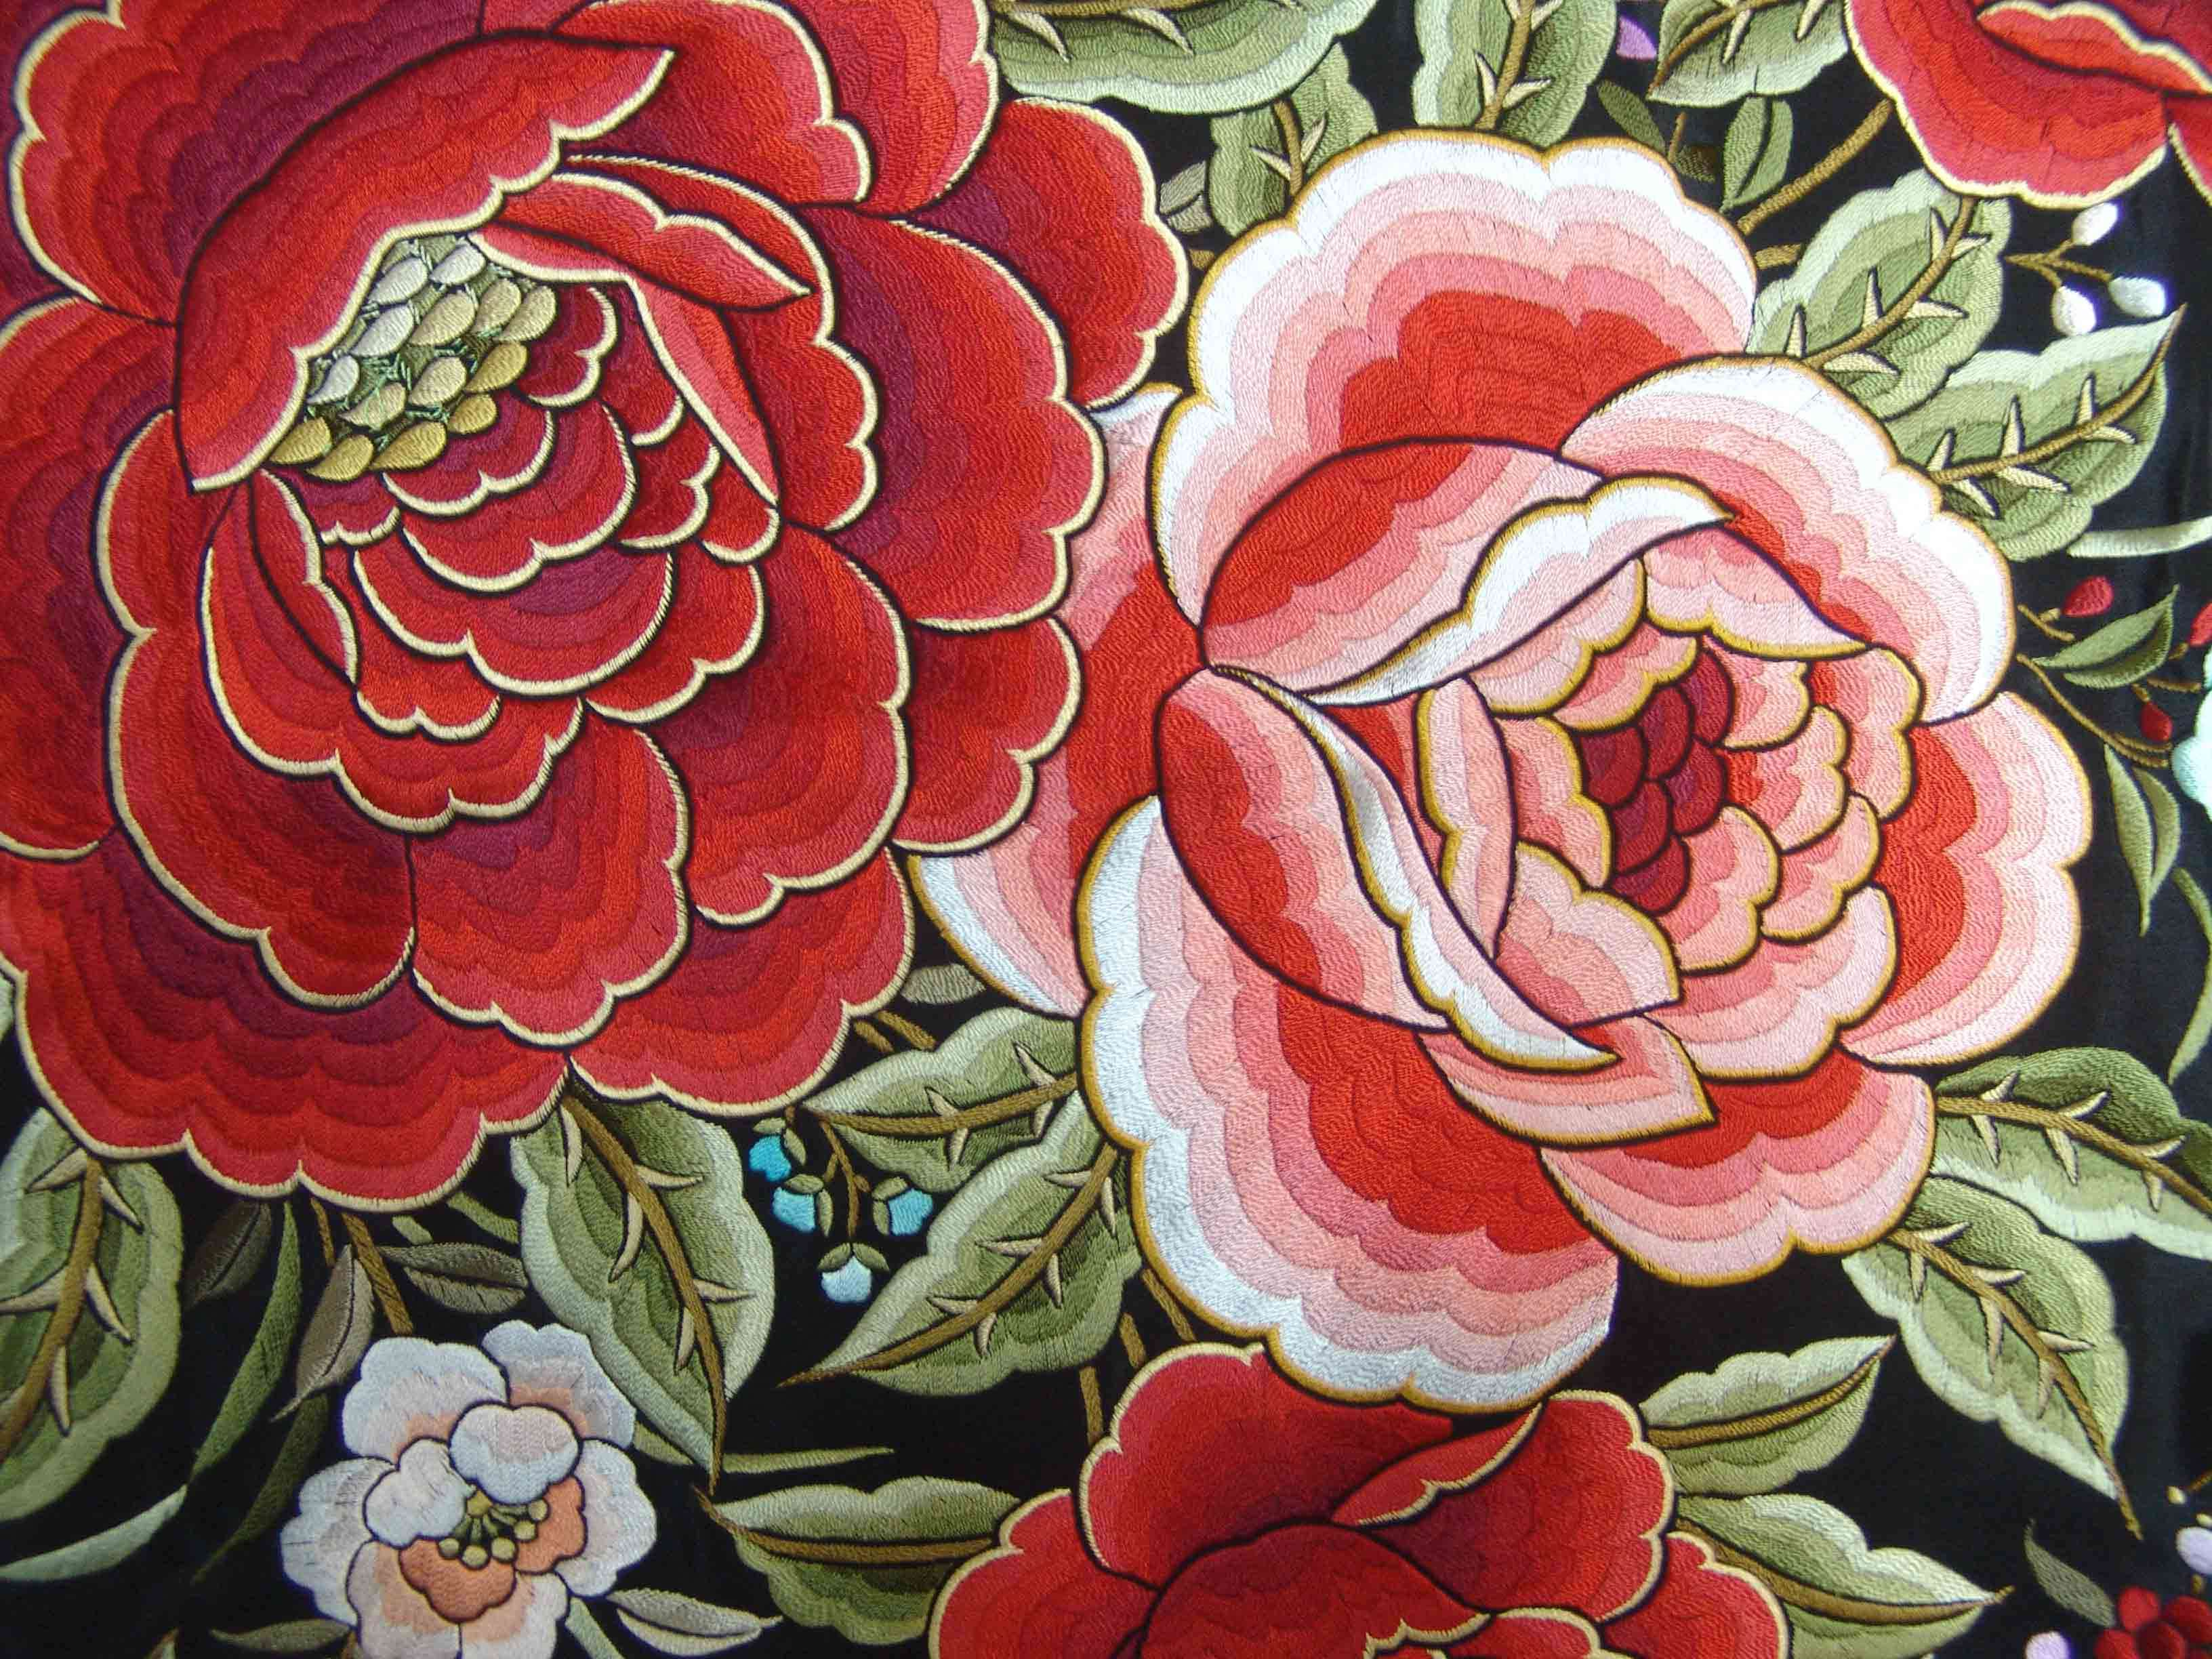flower: (0, 2, 1183, 1208), (1078, 127, 2078, 1391), (862, 1352, 2054, 1657), (831, 1354, 1717, 1659), (275, 1319, 655, 1659), (1839, 0, 2210, 209)
